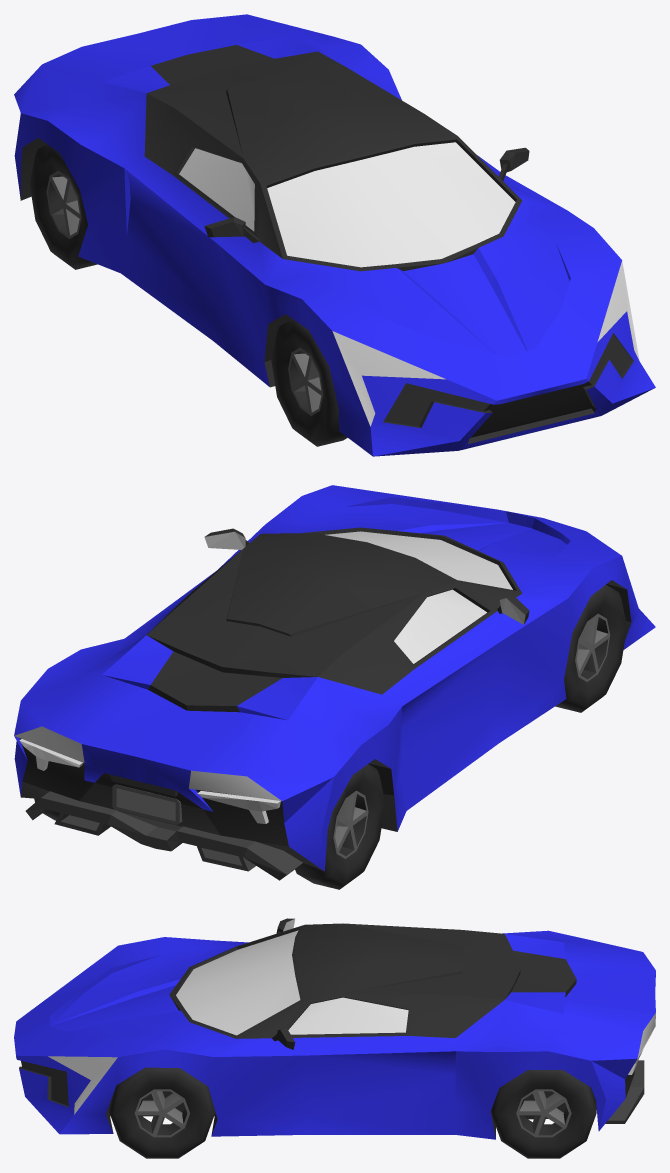
The model's file is italia.fbx.
The picture shows the model from 3 angles, top to bottom: view 1: azimuth 30°, elevation 25°; view 2: azimuth 150°, elevation 25°; view 3: azimuth 270°, elevation 25°; orthographic projection. The views are drawn at different scales.
Parts seen in each view (by area): view 1: fenyr, wheels.020, wheels.021; view 2: fenyr, wheels.021, wheels.020; view 3: fenyr, wheels.038, wheels.039.
Boxes of the visible parts, x1,y1,x2,y2 form: fenyr: [14, 14, 655, 456]; wheels.020: [271, 319, 347, 446]; wheels.021: [29, 144, 97, 269]; fenyr: [14, 485, 655, 880]; wheels.021: [295, 764, 385, 889]; wheels.020: [555, 585, 626, 712]; fenyr: [14, 918, 655, 1139]; wheels.038: [109, 1067, 215, 1158]; wheels.039: [491, 1070, 596, 1158].
Size of the model in its own units: 222 by 130 by 488.
